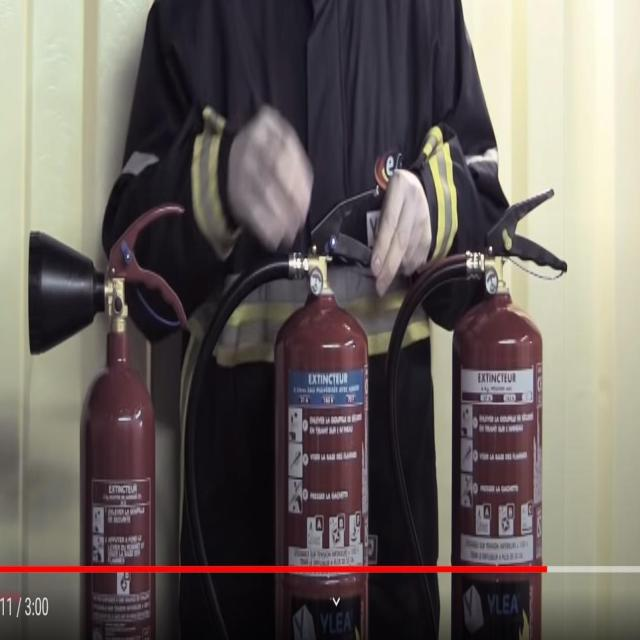fire_extinguisher: (183, 181, 390, 639), (383, 180, 571, 639), (24, 196, 194, 639)
